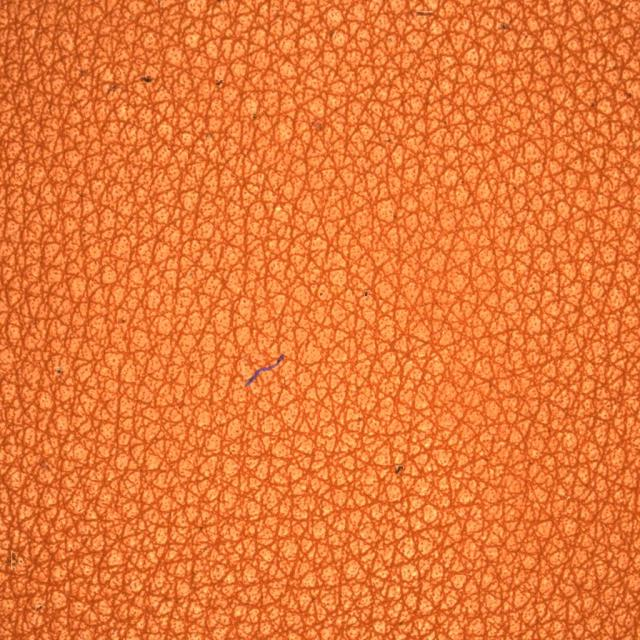Bacterial Injury: (140, 313, 386, 429)
pinhole: (46, 40, 269, 179), (350, 408, 448, 530)
